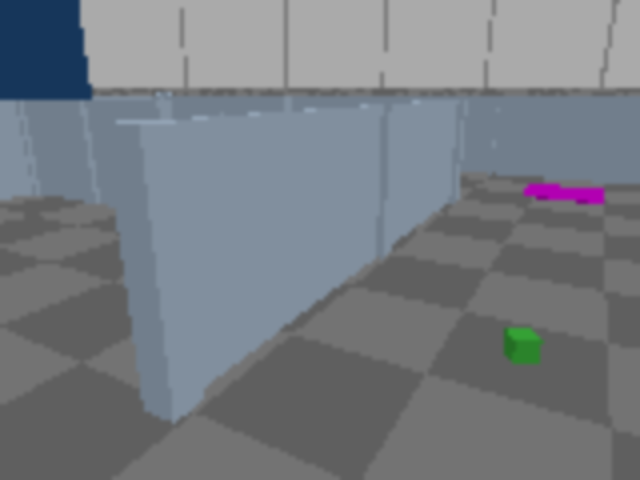goal_zone: (521, 183, 605, 205)
puck: (503, 329, 542, 363)
